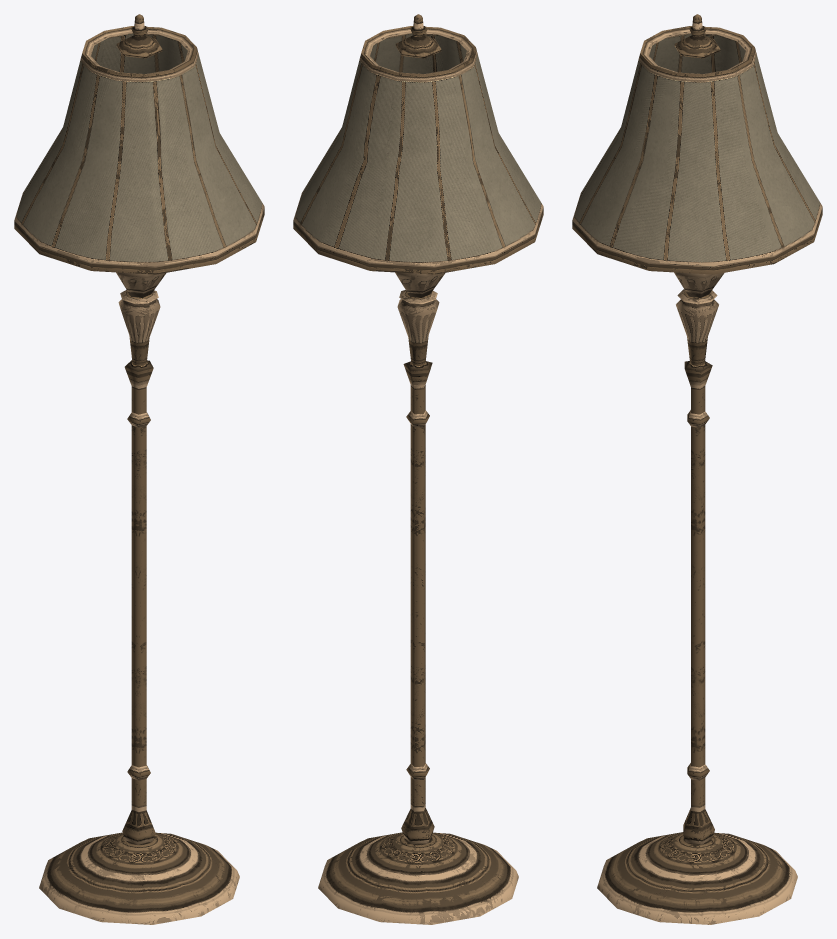
The model's file is Lamp_02_LOD1.fbx.
3 renders of one model, left to right at view 1: azimuth 30°, elevation 25°; view 2: azimuth 150°, elevation 25°; view 3: azimuth 270°, elevation 25°, orthographic.
Parts seen in each view (by area): view 1: Lamp2; view 2: Lamp2; view 3: Lamp2.
Boxes of the visible parts, x1,y1,x2,y2 form: Lamp2: [14, 14, 264, 924]; Lamp2: [293, 14, 543, 924]; Lamp2: [572, 14, 822, 924].
Bounding box in the file's own units: 62.97 × 241 × 62.97.
